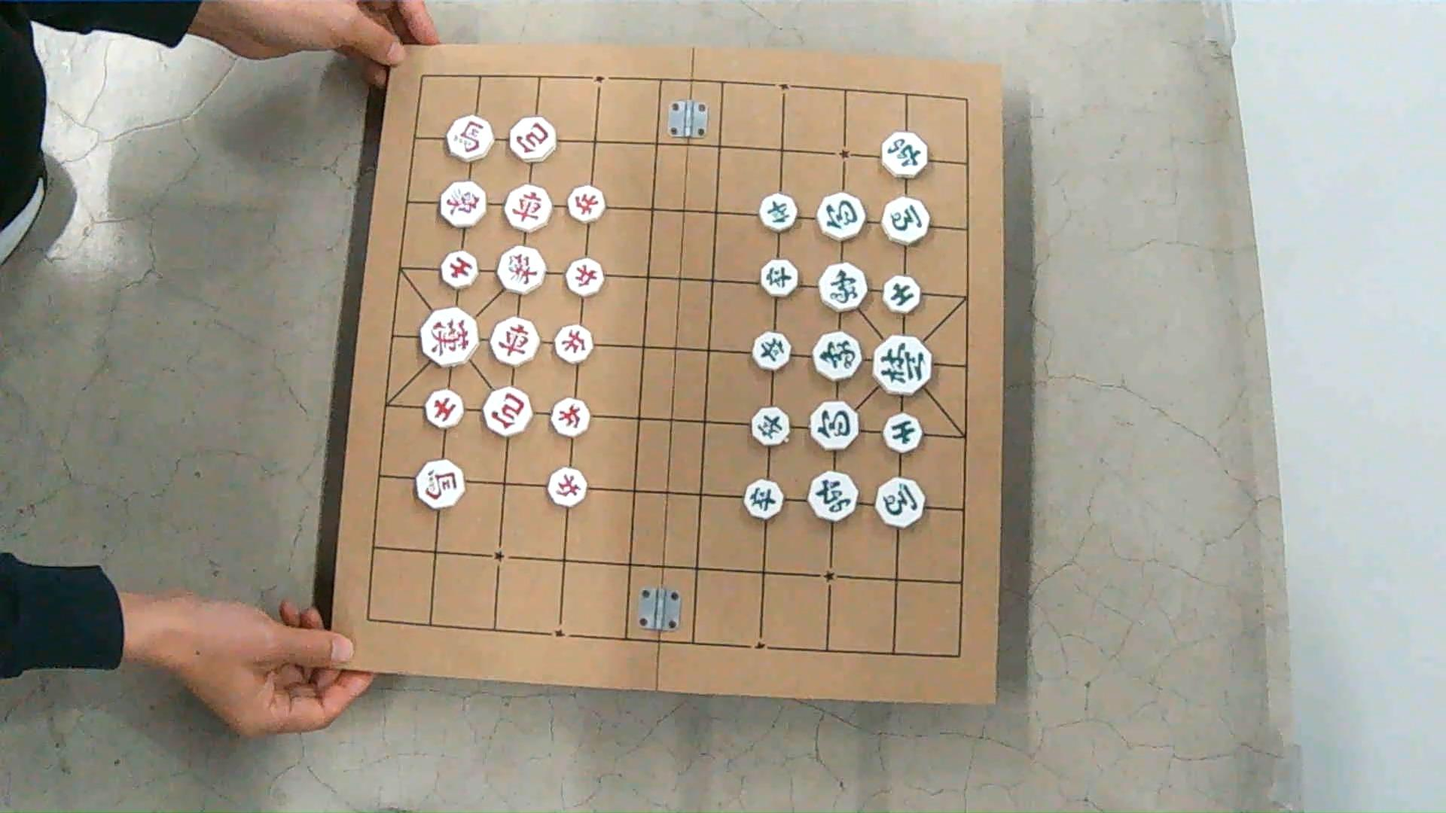cha_green: (809, 472, 857, 522), (881, 132, 928, 178)
cha_red: (490, 318, 538, 366), (504, 185, 551, 232)
jol_green: (743, 479, 782, 519), (752, 407, 790, 446), (760, 193, 798, 232), (753, 332, 791, 370), (761, 259, 798, 297)
jol_red: (548, 467, 587, 507), (554, 324, 592, 364), (551, 398, 589, 437), (566, 258, 603, 296), (568, 185, 605, 222)
ma_green: (877, 478, 925, 527), (882, 197, 929, 244)
ma_red: (416, 460, 464, 509), (446, 116, 493, 162)
po_green: (810, 401, 858, 450), (819, 193, 865, 240)
po_red: (483, 387, 531, 435), (510, 117, 555, 162)
sa_green: (883, 414, 921, 452), (883, 276, 920, 313)
sa_red: (426, 389, 463, 428), (441, 251, 477, 288)
sang_green: (813, 332, 862, 381), (820, 263, 867, 312)
sang_red: (498, 246, 545, 294), (440, 181, 486, 227)
wang_green: (874, 335, 932, 395)
wang_red: (420, 307, 478, 367)
